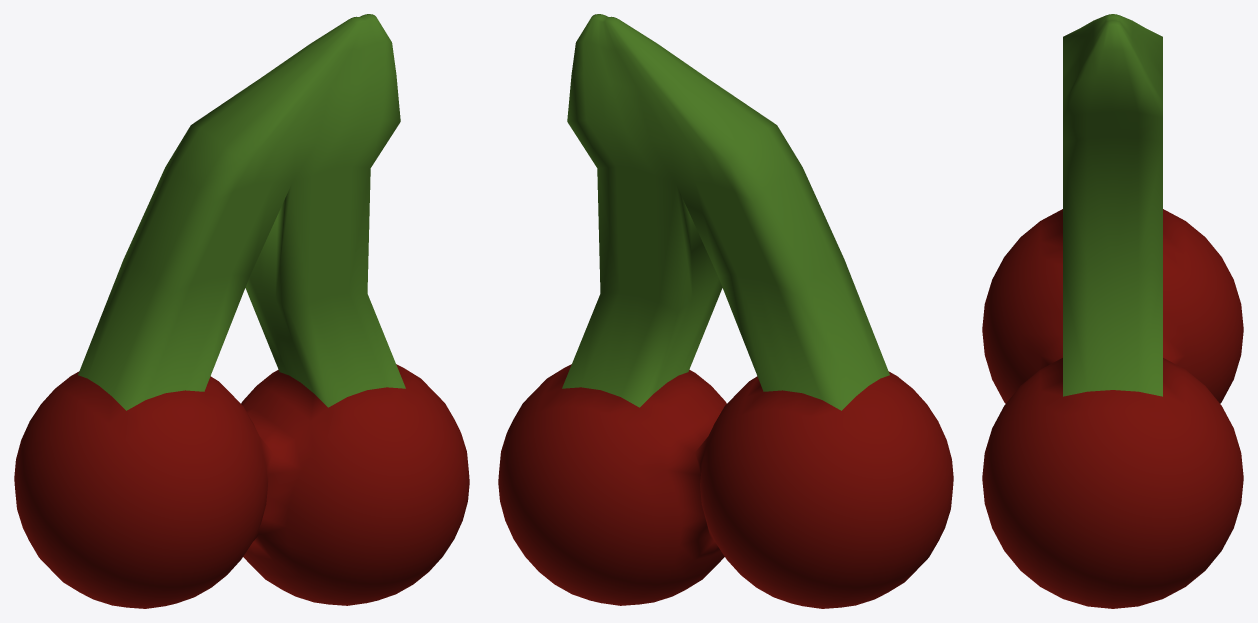
The model's file is cereza.fbx.
3 views of the same model, side by side, from view 1: azimuth 30°, elevation 25°; view 2: azimuth 150°, elevation 25°; view 3: azimuth 270°, elevation 25° (orthographic). The views are drawn at different scales.
Parts seen in each view (by area): view 1: Sphere001; view 2: Sphere001; view 3: Sphere001.
Boxes of the visible parts, x1,y1,x2,y2 form: Sphere001: (14,14,469,608); Sphere001: (498,14,953,608); Sphere001: (982,14,1243,608).
Bounding box in the file's own units: 60.95 × 78.95 × 31.81.
